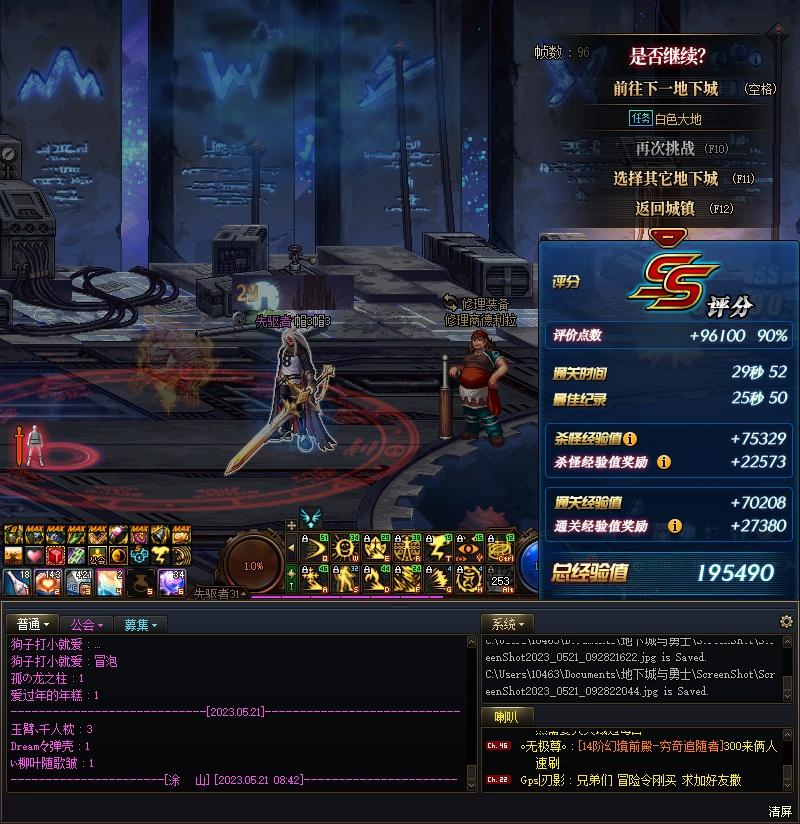-: (622, 135, 732, 162)
